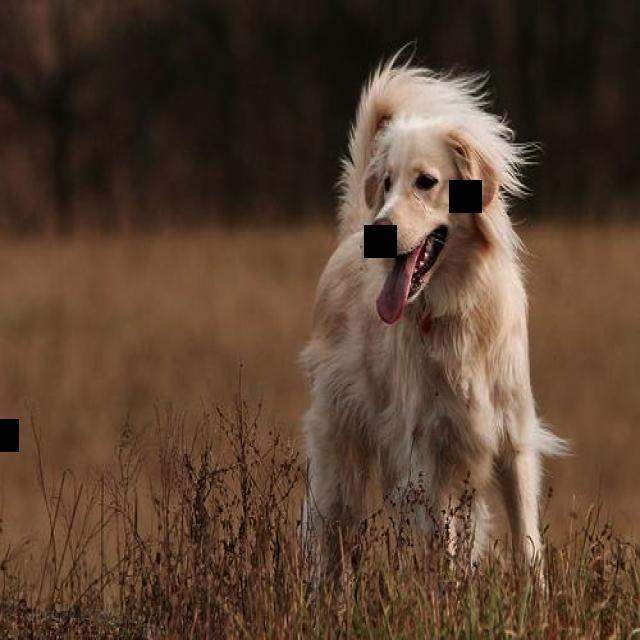adult_dog: (288, 45, 575, 594)
